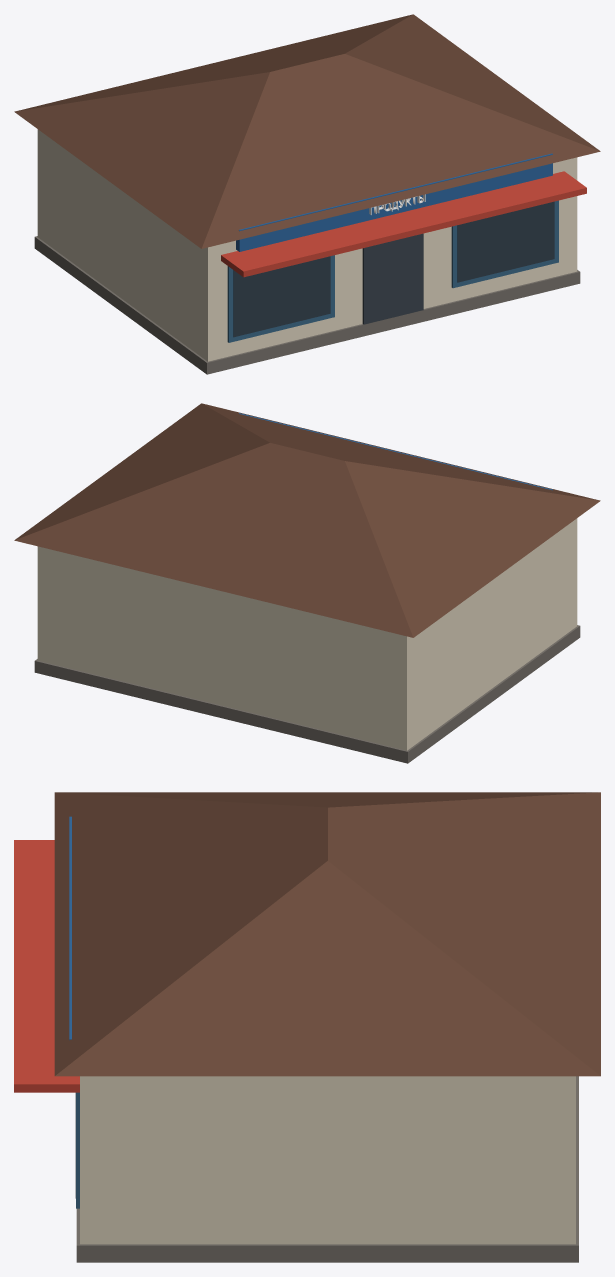
Rendered from shop.glb.
The picture shows the model from 3 angles, top to bottom: view 1: azimuth 30°, elevation 25°; view 2: azimuth 150°, elevation 25°; view 3: azimuth 270°, elevation 25°; orthographic projection. The views are drawn at different scales.
Visible parts, largest first — view 1: shop; view 2: shop; view 3: shop.
Part boxes in pixels (x1,y1,x2,y2): shop: [14, 14, 600, 374]; shop: [14, 403, 600, 763]; shop: [14, 792, 600, 1262].
Size of the model in its own units: 10.7 by 5.2 by 9.35.
